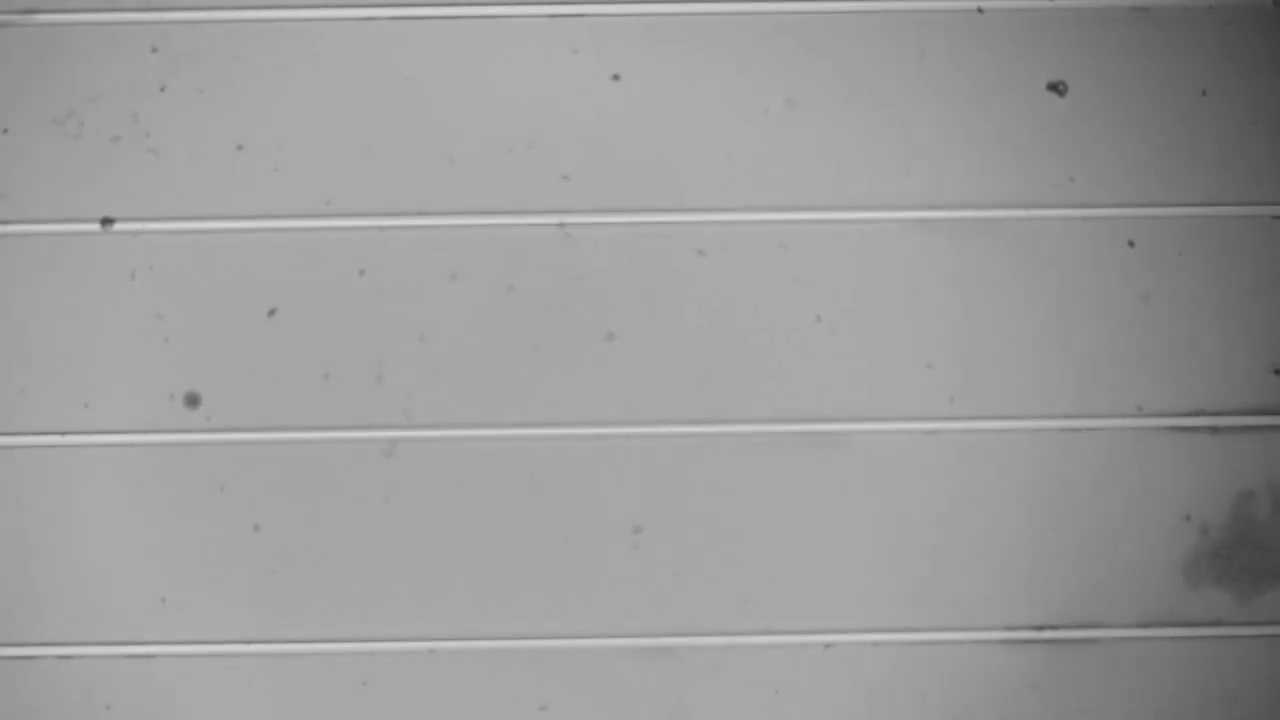stains_enbedded: (95, 212, 124, 242)
